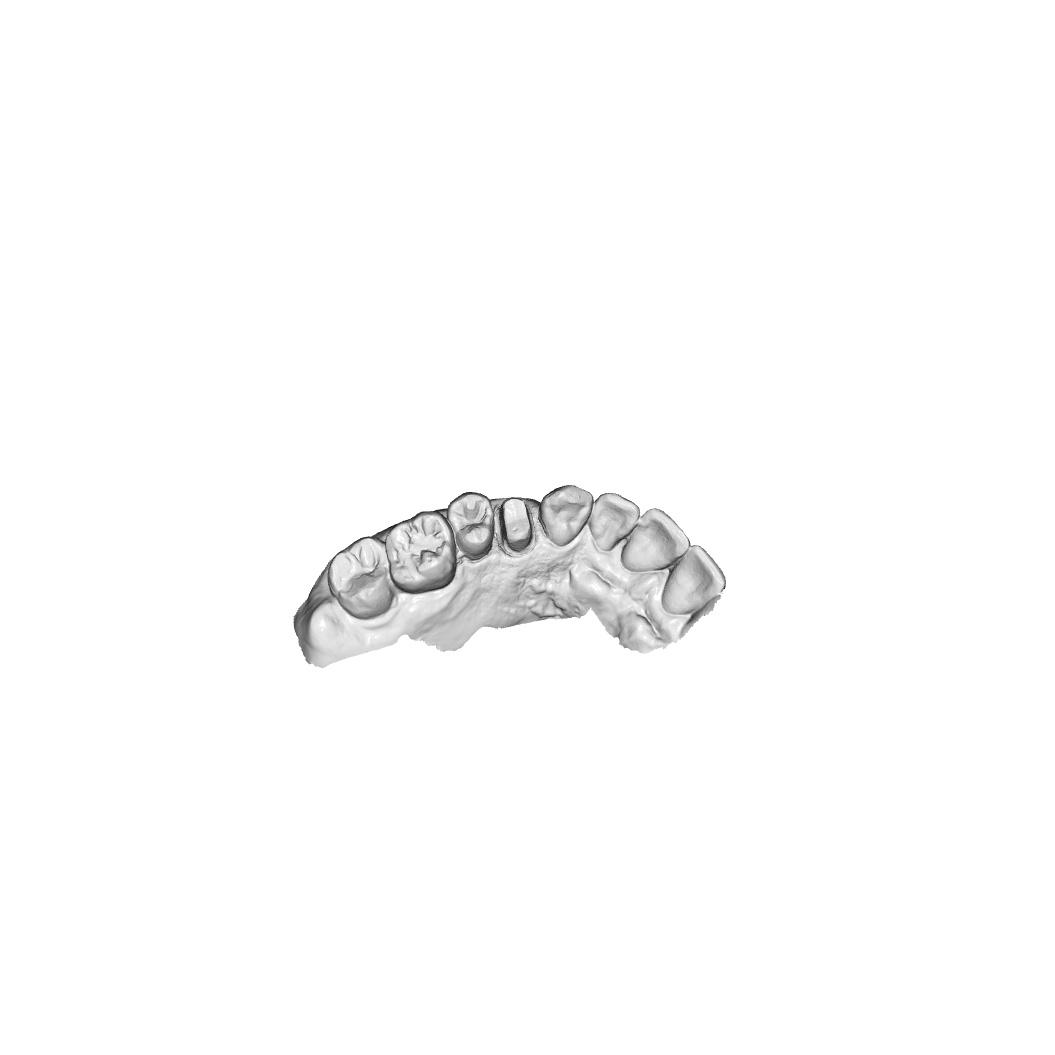canine: (538, 483, 594, 548)
crown: (495, 495, 536, 557)
incisor: (659, 543, 727, 616), (620, 507, 692, 573), (586, 491, 642, 555)
molar: (383, 510, 459, 596), (326, 535, 396, 621)
premolar: (445, 489, 497, 562)
